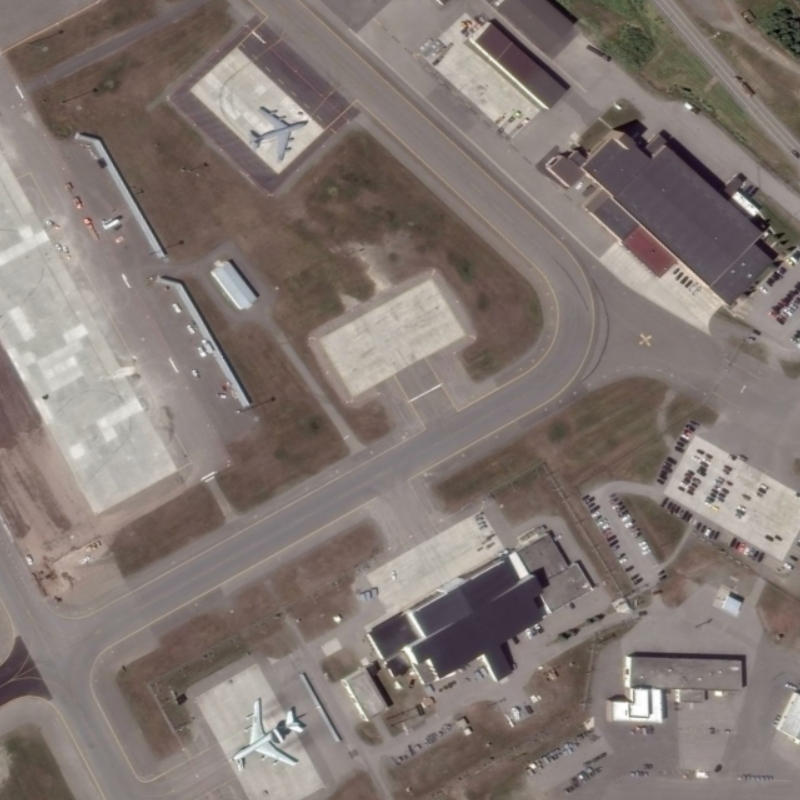A14: (245, 102, 311, 165)
A7: (231, 696, 306, 768)
